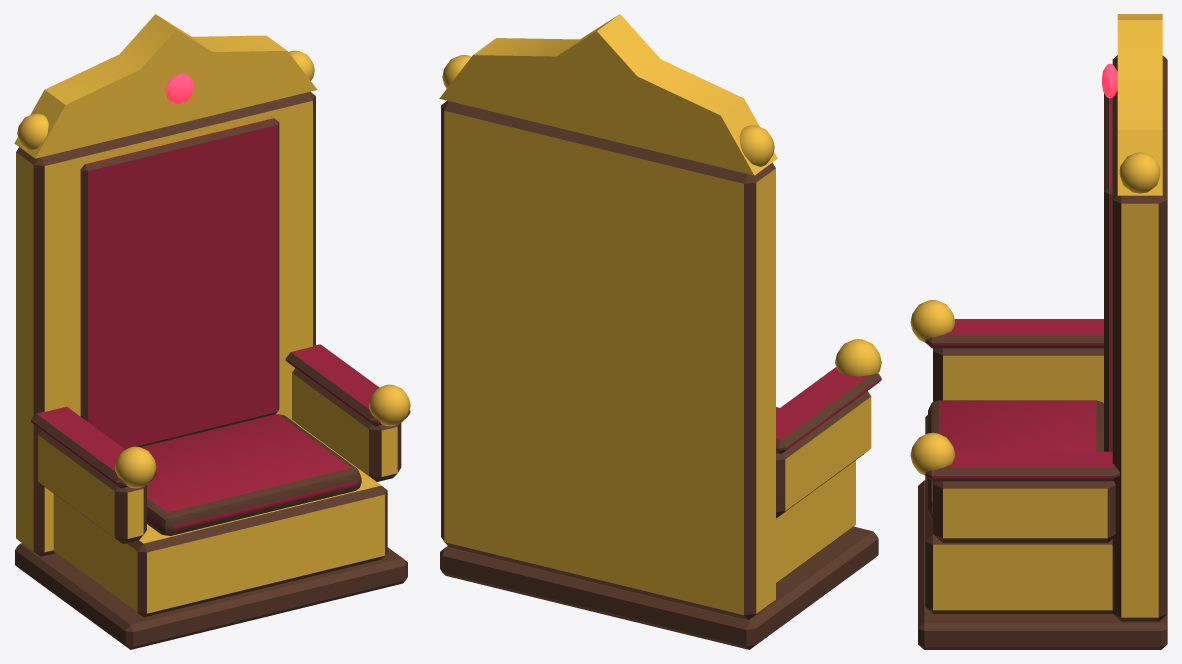
The model's file is crown_throne.glb.
3 views of the same model, side by side, from view 1: azimuth 30°, elevation 25°; view 2: azimuth 150°, elevation 25°; view 3: azimuth 270°, elevation 25° (orthographic). The views are drawn at different scales.
Parts seen in each view (by area): view 1: crown_throne; view 2: crown_throne; view 3: crown_throne.
Part boxes in pixels (x1=…): crown_throne: x1=14, y1=14, x2=410, y2=649; crown_throne: x1=439, y1=14, x2=881, y2=649; crown_throne: x1=910, y1=14, x2=1167, y2=649.
Bounding box in the file's own units: 1.46 × 2.47 × 1.03.
